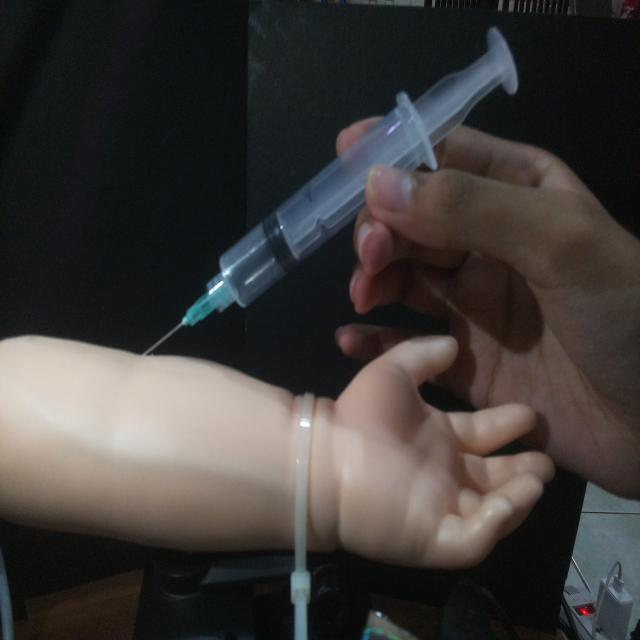29deg: (137, 23, 522, 359)
